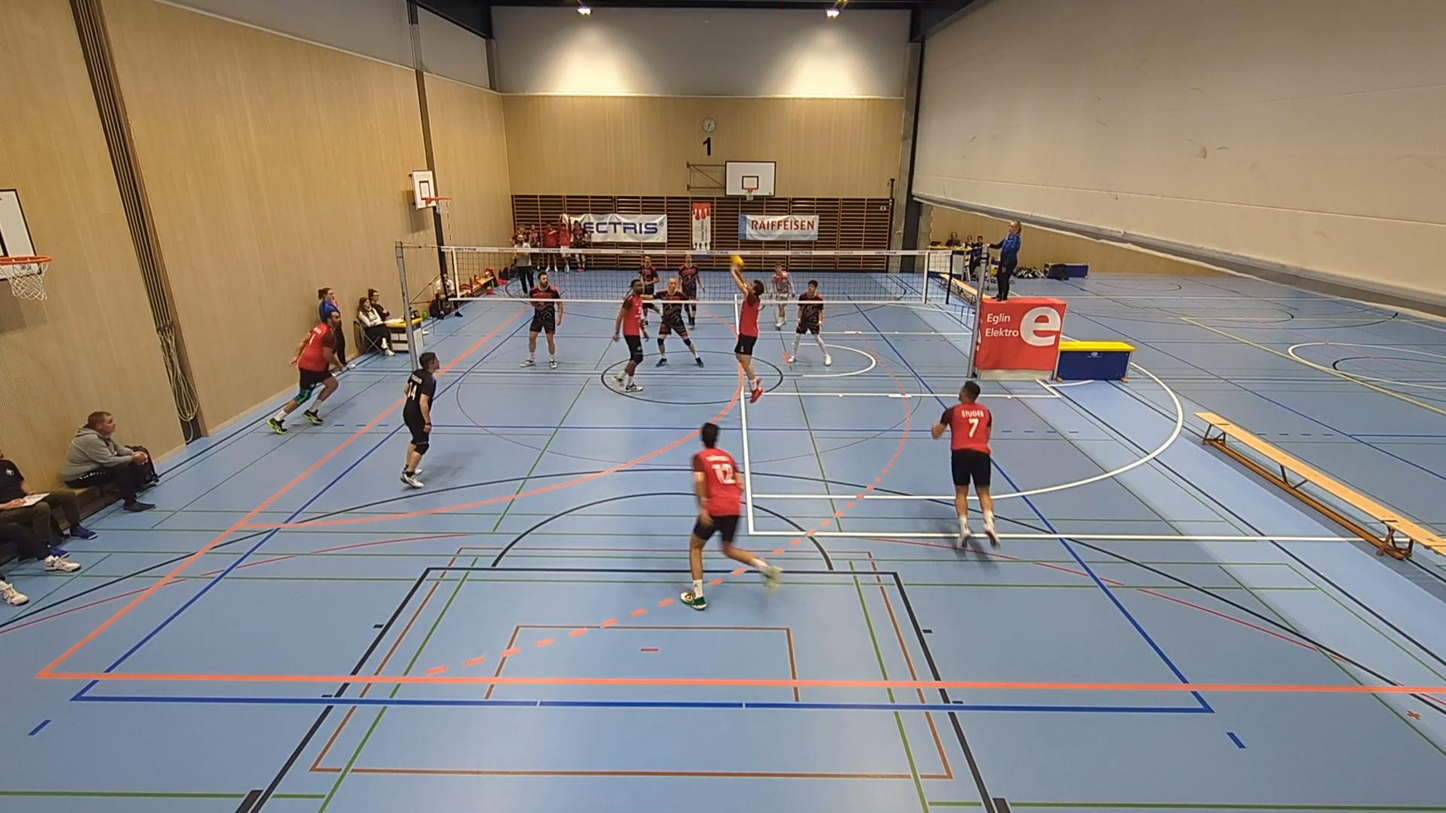alzata: (722, 261, 769, 399)
